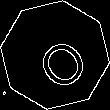O_NW: (22, 22, 88, 88)
